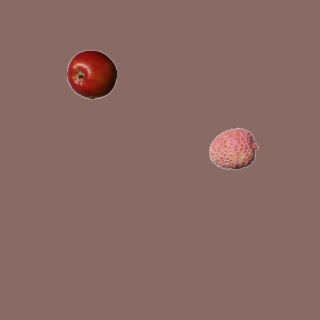Apple Braeburn: (66, 49, 116, 99)
Lychee: (208, 123, 258, 173)
